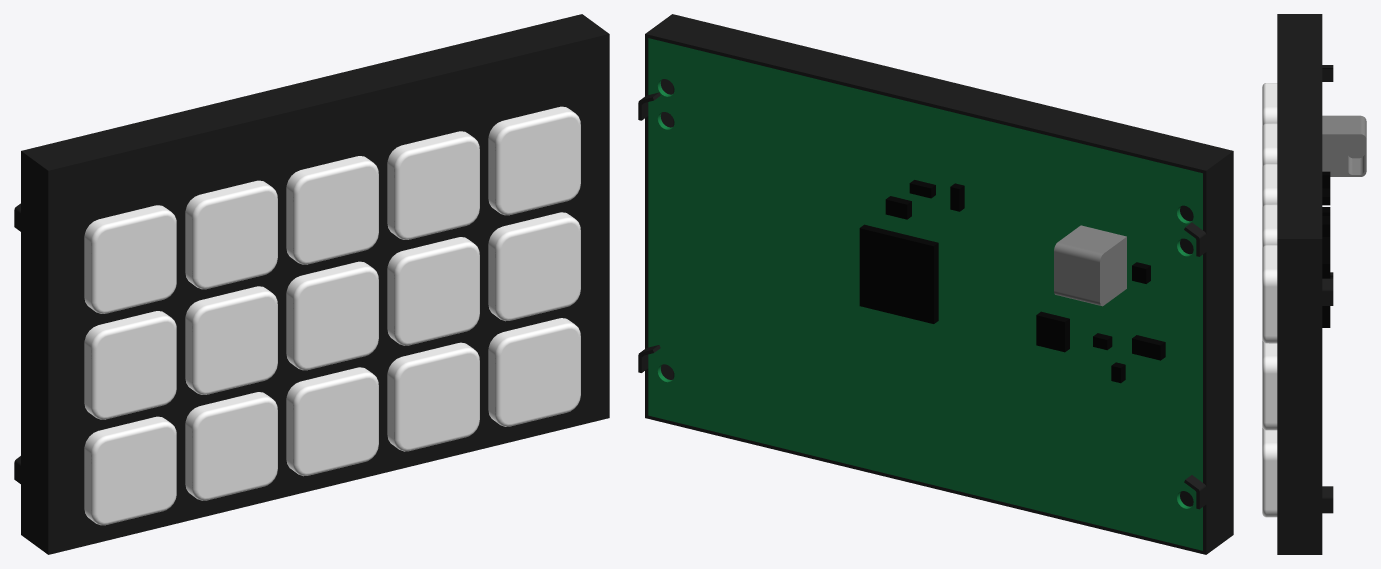
Rendered from Stream Deck Module.obj.
3 views of the same model, side by side, from view 1: azimuth 30°, elevation 25°; view 2: azimuth 150°, elevation 25°; view 3: azimuth 270°, elevation 25° (orthographic). The views are drawn at different scales.
Parts seen in each view (by area): view 1: Design Layer-1; view 2: Design Layer-1; view 3: Design Layer-1.
Part boxes in pixels (box(x1,y1,x2,y2)): Design Layer-1: box(14, 14, 609, 554); Design Layer-1: box(638, 14, 1233, 554); Design Layer-1: box(1262, 14, 1366, 554).
Bounding box in the file's own units: 107 × 70 × 20.9.
